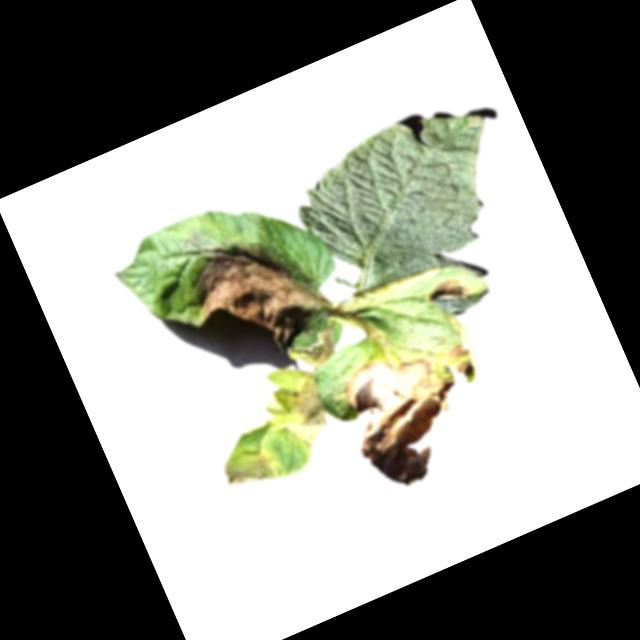Late_blight: (328, 333, 486, 498), (177, 214, 339, 374), (267, 374, 337, 450), (218, 443, 280, 498), (285, 321, 348, 375), (424, 273, 470, 311), (452, 357, 479, 381), (444, 338, 469, 362)
healthy: (278, 90, 529, 309)
